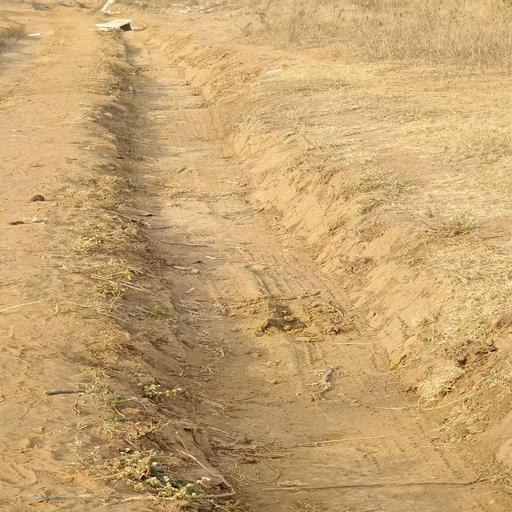vehicle_track: (119, 36, 512, 512), (0, 24, 57, 100)
